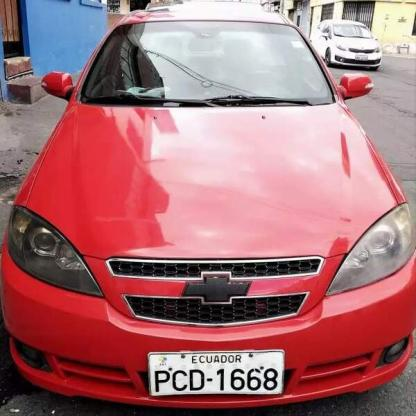Placa: (146, 351, 284, 396)
